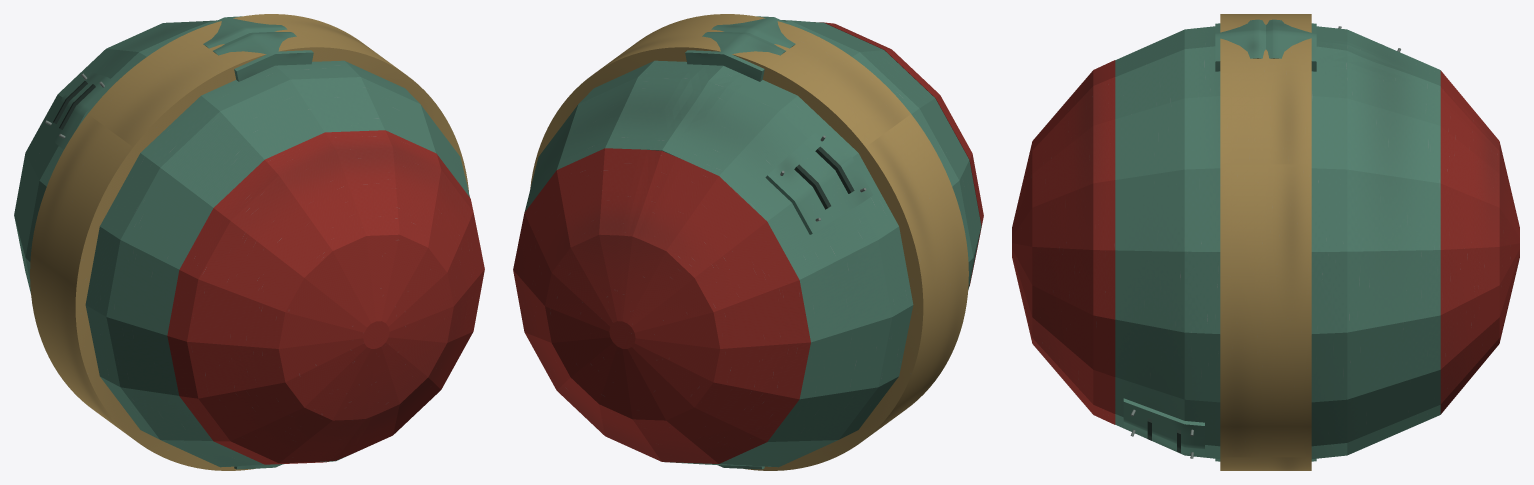
3 renders of one model, left to right at view 1: azimuth 30°, elevation 25°; view 2: azimuth 150°, elevation 25°; view 3: azimuth 270°, elevation 25°, orthographic.
Parts seen in each view (by area): view 1: Artemian Multiple Warhead red forward cap, Artemian Multiple Warhead green forward shell, Artemian Multiple Warhead gold transverse belt, Artemian Multiple Warhead green rear shell, Artemian Multiple Warhead green longitudinal strap 1, Artemian Multiple Warhead service cover 1, Artemian Multiple Warhead green longitudinal strap 3; view 2: Artemian Multiple Warhead red rear cap, Artemian Multiple Warhead green rear shell, Artemian Multiple Warhead gold transverse belt, Artemian Multiple Warhead green forward shell, Artemian Multiple Warhead service cover 1, Artemian Multiple Warhead green longitudinal strap 3, Artemian Multiple Warhead red forward cap, Artemian Multiple Warhead green longitudinal strap 1; view 3: Artemian Multiple Warhead green rear shell, Artemian Multiple Warhead green forward shell, Artemian Multiple Warhead gold transverse belt, Artemian Multiple Warhead red forward cap, Artemian Multiple Warhead red rear cap, Artemian Multiple Warhead service cover 0, Artemian Multiple Warhead green longitudinal strap 1, Artemian Multiple Warhead green longitudinal strap 3.
Part boxes in pixels (<box>): Artemian Multiple Warhead red forward cap: <box>167,130,484,464</box>; Artemian Multiple Warhead green forward shell: <box>85,60,469,467</box>; Artemian Multiple Warhead gold transverse belt: <box>30,14,468,470</box>; Artemian Multiple Warhead green rear shell: <box>14,20,216,293</box>; Artemian Multiple Warhead green longitudinal strap 1: <box>213,32,313,81</box>; Artemian Multiple Warhead service cover 1: <box>45,71,115,149</box>; Artemian Multiple Warhead green longitudinal strap 3: <box>202,16,287,48</box>; Artemian Multiple Warhead red rear cap: <box>513,148,810,463</box>; Artemian Multiple Warhead green rear shell: <box>524,60,913,467</box>; Artemian Multiple Warhead gold transverse belt: <box>530,14,968,470</box>; Artemian Multiple Warhead green forward shell: <box>781,20,981,289</box>; Artemian Multiple Warhead service cover 1: <box>765,128,872,234</box>; Artemian Multiple Warhead green longitudinal strap 3: <box>685,32,785,81</box>; Artemian Multiple Warhead red forward cap: <box>815,22,983,286</box>; Artemian Multiple Warhead green longitudinal strap 1: <box>711,16,796,48</box>; Artemian Multiple Warhead green rear shell: <box>1311,26,1440,458</box>; Artemian Multiple Warhead green forward shell: <box>1115,26,1220,458</box>; Artemian Multiple Warhead gold transverse belt: <box>1220,14,1311,470</box>; Artemian Multiple Warhead red forward cap: <box>1012,60,1115,424</box>; Artemian Multiple Warhead red rear cap: <box>1440,70,1519,414</box>; Artemian Multiple Warhead service cover 0: <box>1123,398,1204,455</box>; Artemian Multiple Warhead green longitudinal strap 1: <box>1215,19,1265,71</box>; Artemian Multiple Warhead green longitudinal strap 3: <box>1266,19,1316,71</box>.
Bounding box in the file's own units: 0.9 × 0.92 × 1.
Materials: 5 (3 with a texture image).
